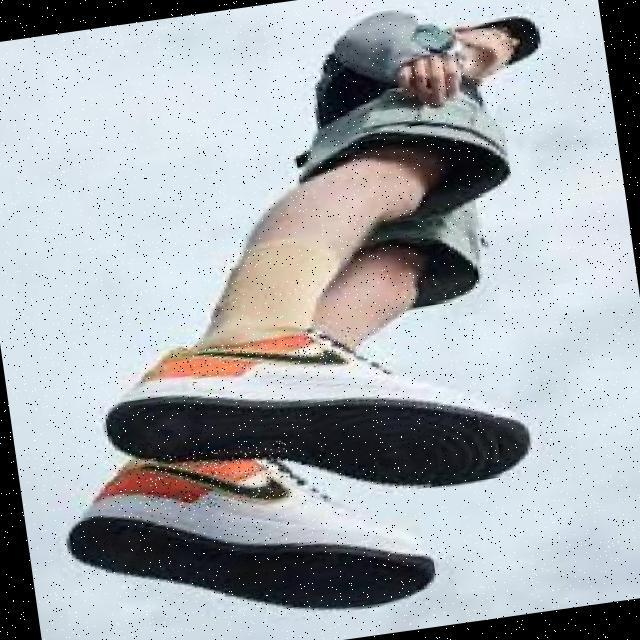Nike: (133, 440, 293, 518), (184, 327, 355, 386)
